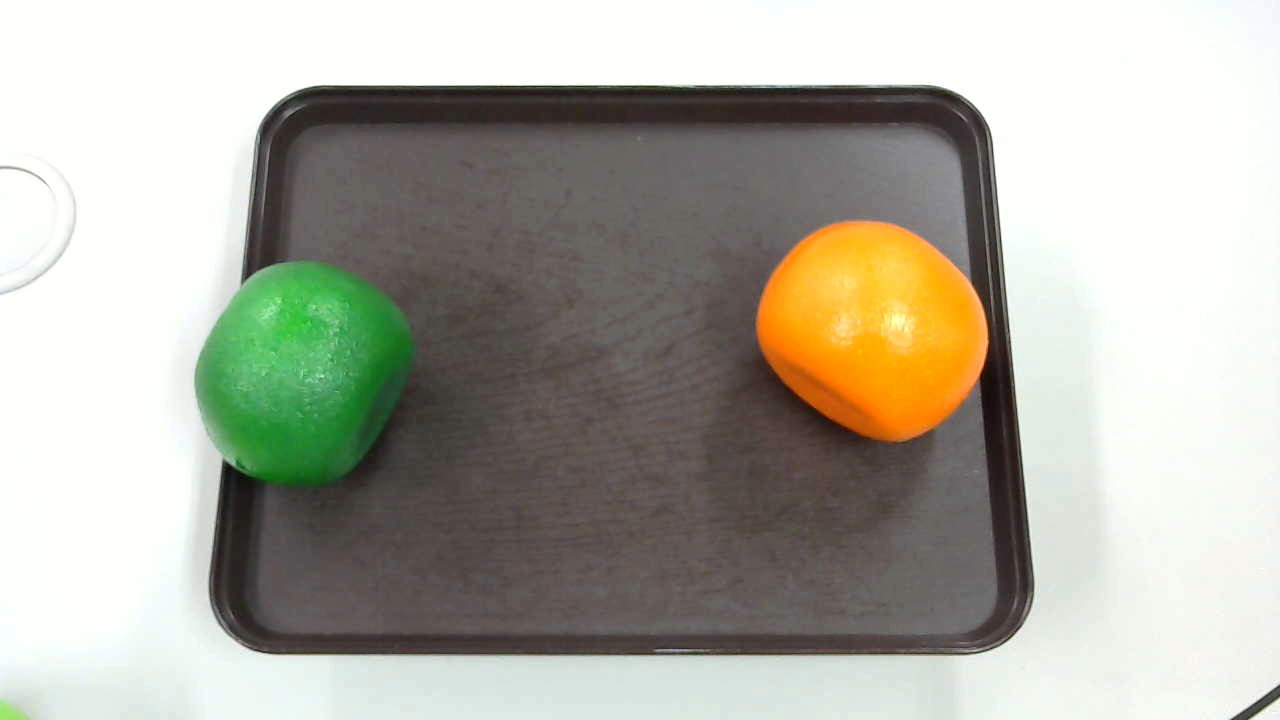green orange: (186, 258, 419, 491)
orange: (752, 221, 991, 448)
